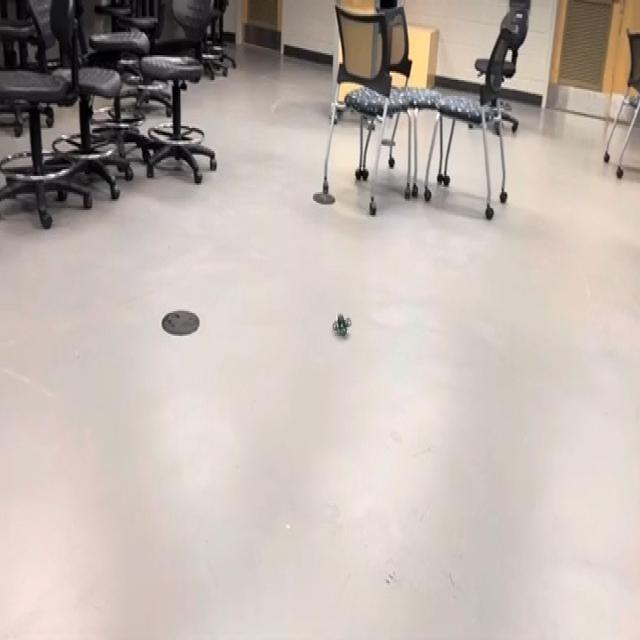drone: (323, 294, 356, 348)
